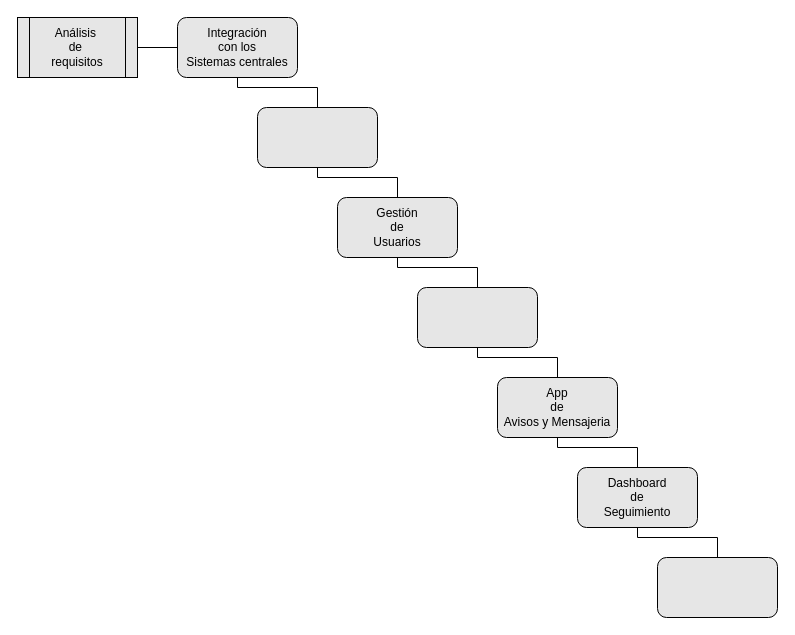
Image size: 795x635. Some labels were removed from this diagram. Each missing label, with the centre of its shape:
"Gestión de Emergencias" goes at point (717, 587).
"Sistema de Geoposicionamiento" goes at point (477, 317).
"Sistema de Mensajeria" goes at point (317, 137).
